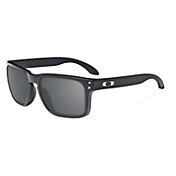sunglasses: (1, 57, 168, 120)
